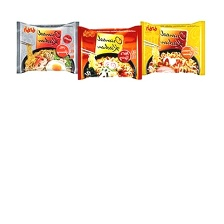snack: (137, 15, 209, 79), (73, 21, 146, 83), (12, 16, 84, 78)
